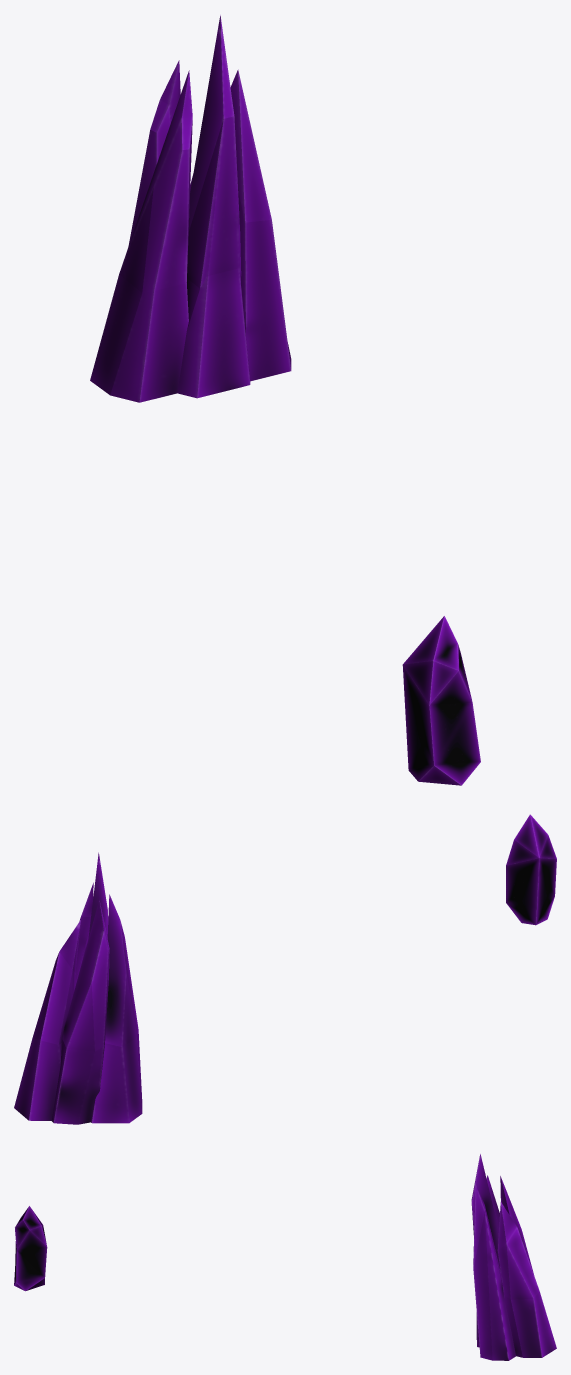
File: Crystal.fbx
The picture shows the model from 3 angles, top to bottom: view 1: azimuth 30°, elevation 25°; view 2: azimuth 150°, elevation 25°; view 3: azimuth 270°, elevation 25°; orthographic projection. The views are drawn at different scales.
Visible parts, largest first — view 1: 3.5, 1.3; view 2: 3.5, 1.3; view 3: 3.5, 1.3.
Boxes of the visible parts, x1,y1,x2,y2 form: 3.5: [90, 15, 291, 402]; 1.3: [402, 616, 480, 785]; 3.5: [14, 852, 142, 1124]; 1.3: [506, 814, 556, 925]; 3.5: [471, 1154, 556, 1360]; 1.3: [14, 1206, 47, 1291].
Bounding box in the file's own units: 829 × 878 × 2302.
Materials: 2 (2 with a texture image).
